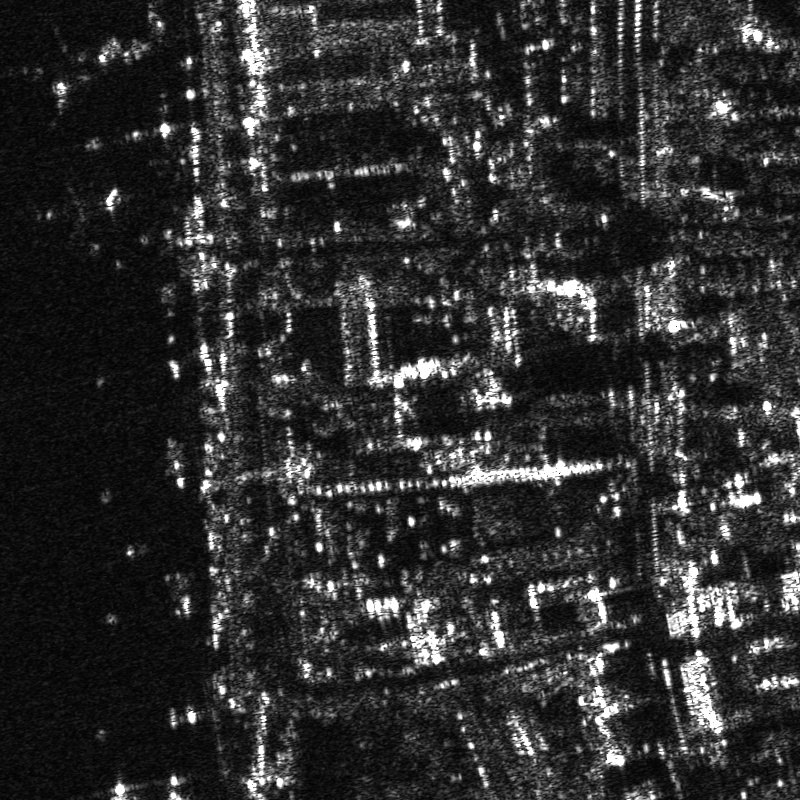ARJ21: (12, 11, 173, 120)
other: (34, 181, 120, 250)
